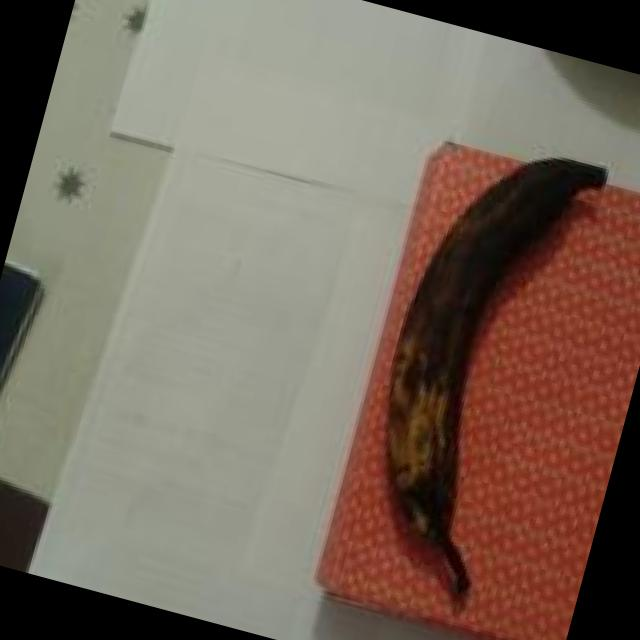Rotten_Banana: (322, 82, 627, 602)
